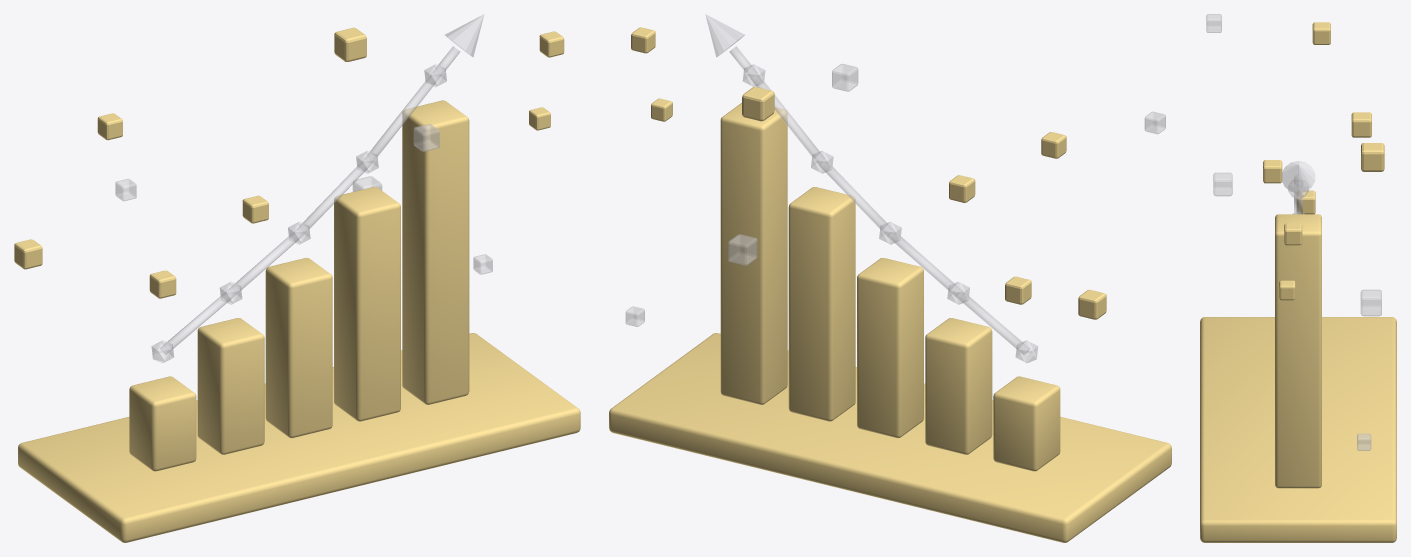
File: growth.glb
The picture shows the model from 3 angles, left to right: view 1: azimuth 30°, elevation 25°; view 2: azimuth 150°, elevation 25°; view 3: azimuth 270°, elevation 25°; orthographic projection. The views are drawn at different scales.
Parts seen in each view (by area): view 1: GrowthChart; view 2: GrowthChart; view 3: GrowthChart.
Boxes of the visible parts, x1=… form: GrowthChart: x1=14, y1=14, x2=580, y2=542; GrowthChart: x1=609, y1=14, x2=1171, y2=542; GrowthChart: x1=1200, y1=14, x2=1396, y2=542.
Size of the model in its own units: 3.4 by 2.52 by 1.25.
